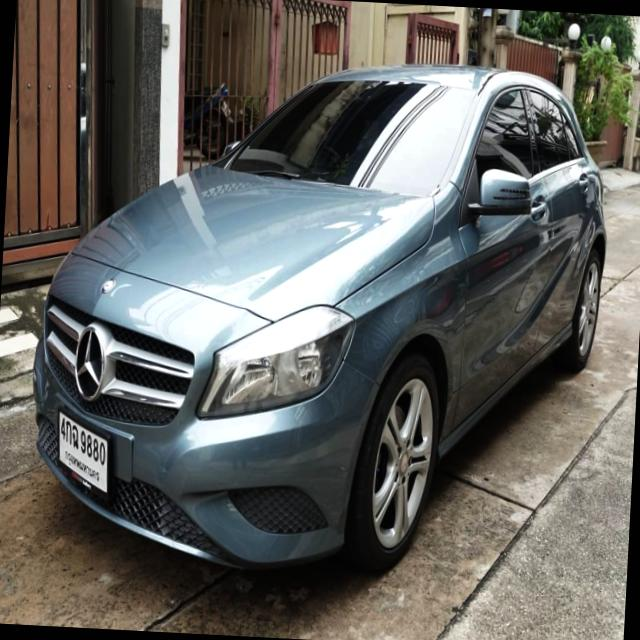license_plate: (51, 404, 118, 503)
